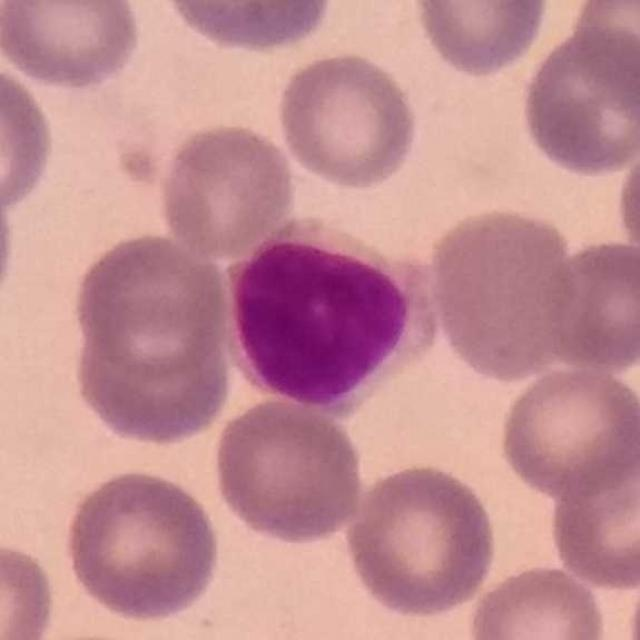Lymphocyte: (222, 218, 444, 410)
RBC: (423, 203, 582, 384), (67, 280, 236, 448), (59, 466, 225, 624), (342, 459, 499, 620), (68, 230, 236, 378), (210, 393, 368, 548), (273, 48, 423, 192), (153, 118, 300, 262), (494, 360, 640, 500), (517, 22, 640, 180), (544, 431, 640, 593), (538, 233, 640, 376), (0, 0, 144, 91), (463, 561, 611, 640), (409, 0, 552, 80), (154, 0, 338, 56), (0, 58, 59, 220), (567, 0, 640, 111), (0, 537, 60, 639), (613, 128, 640, 283), (0, 169, 19, 327), (624, 558, 640, 639)
